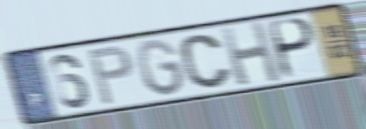6: (49, 52, 91, 110)
C: (178, 32, 235, 91)
G: (135, 37, 189, 99)
H: (218, 19, 285, 89)
P: (86, 43, 135, 108), (269, 16, 317, 81)
